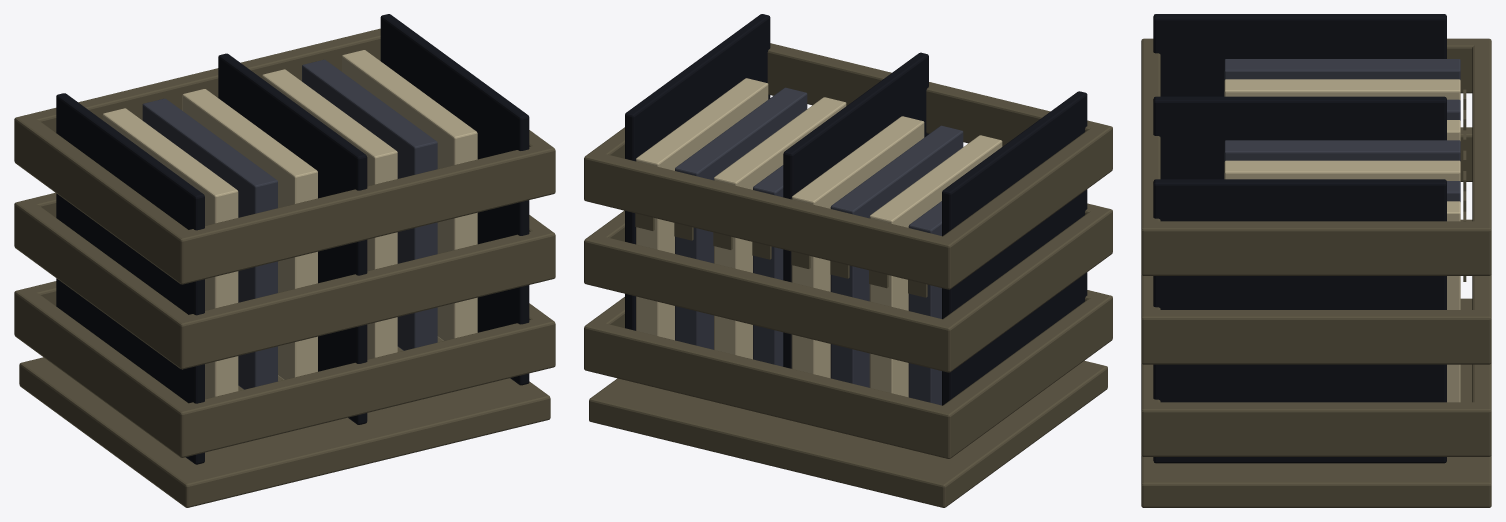
Rendered from record_crate_singles.glb.
3 views of the same model, side by side, from view 1: azimuth 30°, elevation 25°; view 2: azimuth 150°, elevation 25°; view 3: azimuth 270°, elevation 25° (orthographic). The views are drawn at different scales.
Visible parts, largest first — view 1: record_crate_singles; view 2: record_crate_singles; view 3: record_crate_singles.
Part boxes in pixels (x1,y1,x2,y2): record_crate_singles: [14, 14, 555, 507]; record_crate_singles: [584, 14, 1112, 507]; record_crate_singles: [1141, 14, 1491, 507].
Bounding box in the file's own units: 0.555 × 0.43 × 0.43.
